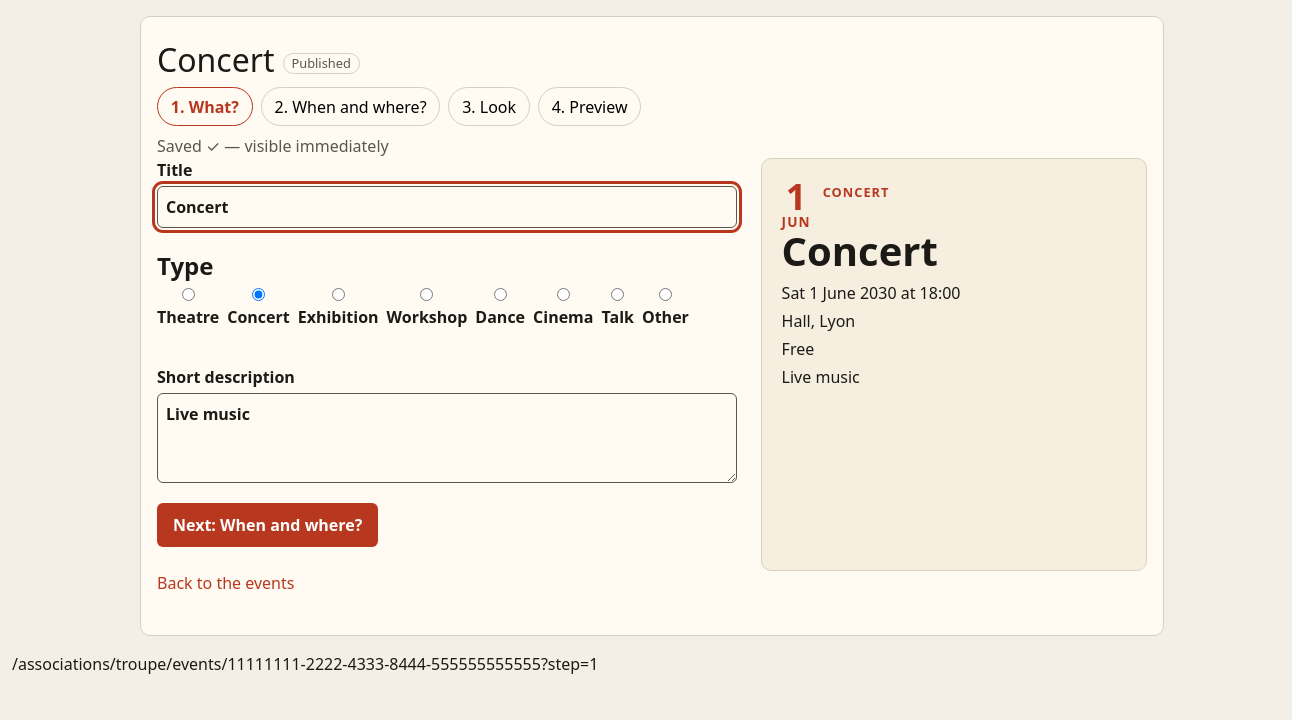
Test: create and save (UC15, UC16) › a published event refuses to lose a required field (UC16 2c)
This screenshot has width=1292, height=720.
Expected: the navigation bar named "Steps" is shown, [157,87,641,126]
Clear the text box labelled "Short description" at (447, 438), box [157,393,737,483]
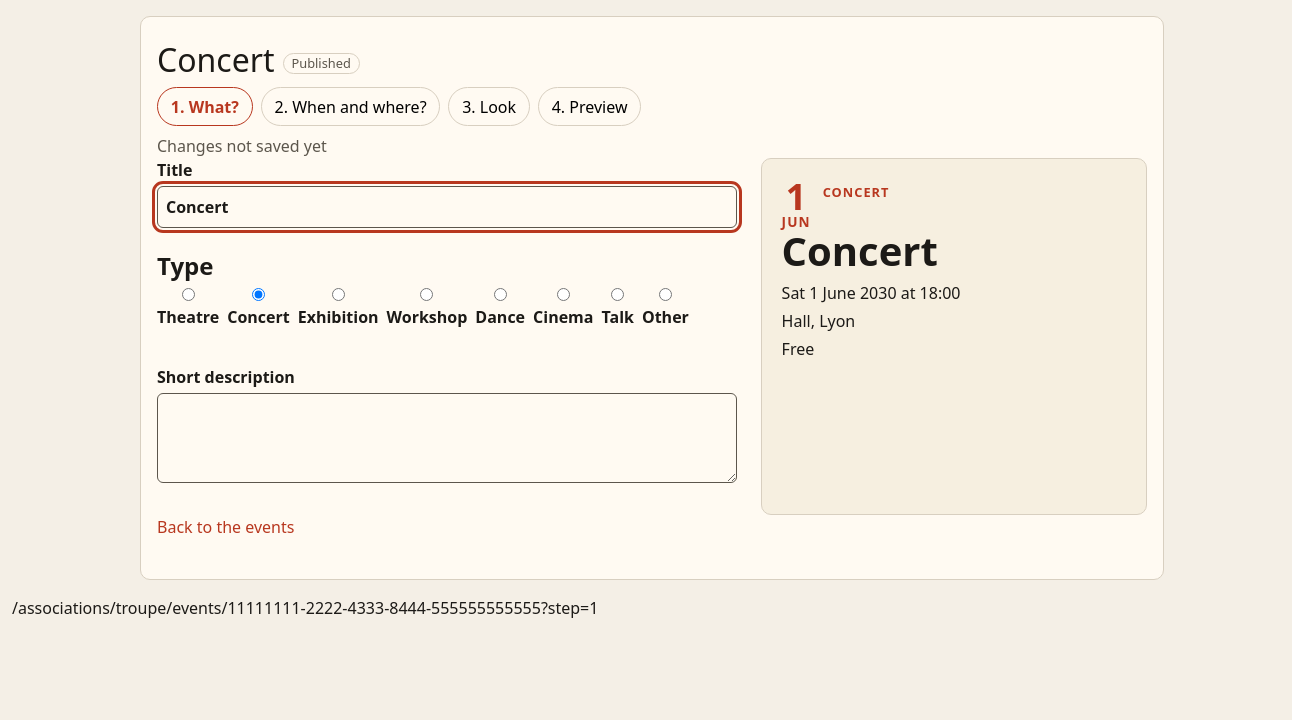
Leave the text box labelled "Short description", box [157,393,737,483]
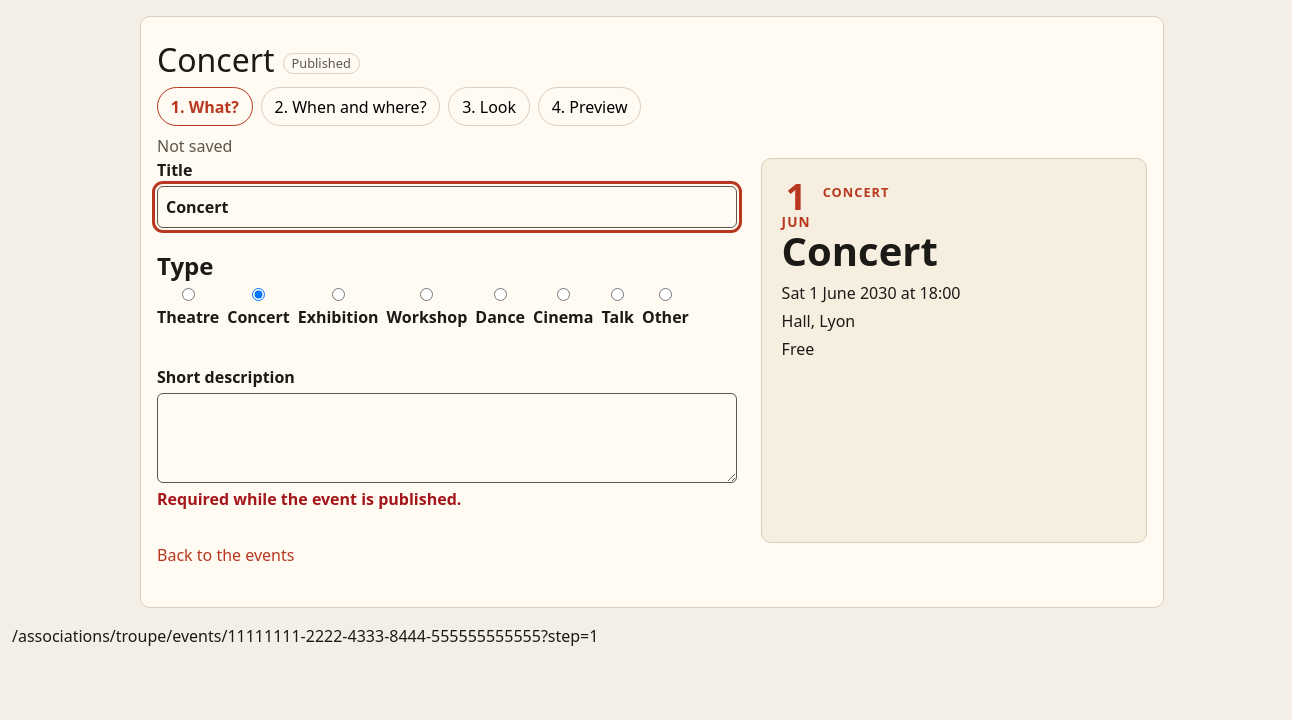
Now the text "Required while the event is published." is shown, box [157,488,461,510]
